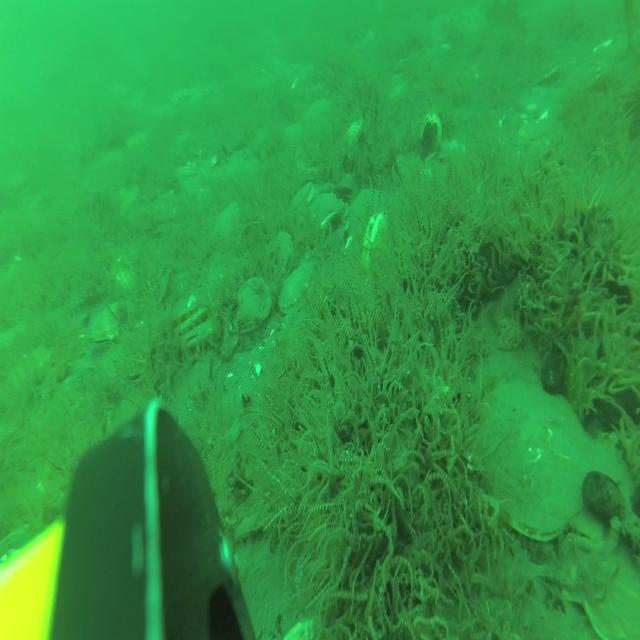scallop: (479, 376, 594, 543), (563, 431, 631, 541), (549, 512, 624, 604), (579, 540, 640, 640), (347, 184, 388, 244), (235, 272, 271, 331), (305, 192, 345, 239), (280, 264, 316, 316), (213, 203, 249, 255), (90, 302, 132, 345), (266, 228, 296, 288), (180, 318, 216, 360), (289, 178, 318, 218), (518, 112, 552, 146), (173, 304, 207, 336), (345, 116, 363, 154), (284, 122, 306, 151)
